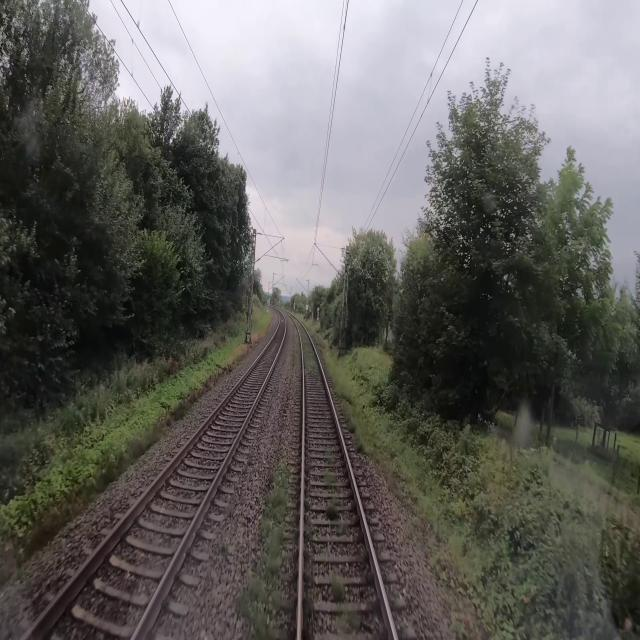Plant: (314, 335, 404, 497), (238, 460, 291, 639), (328, 572, 346, 599), (325, 467, 340, 488), (328, 499, 341, 520)
